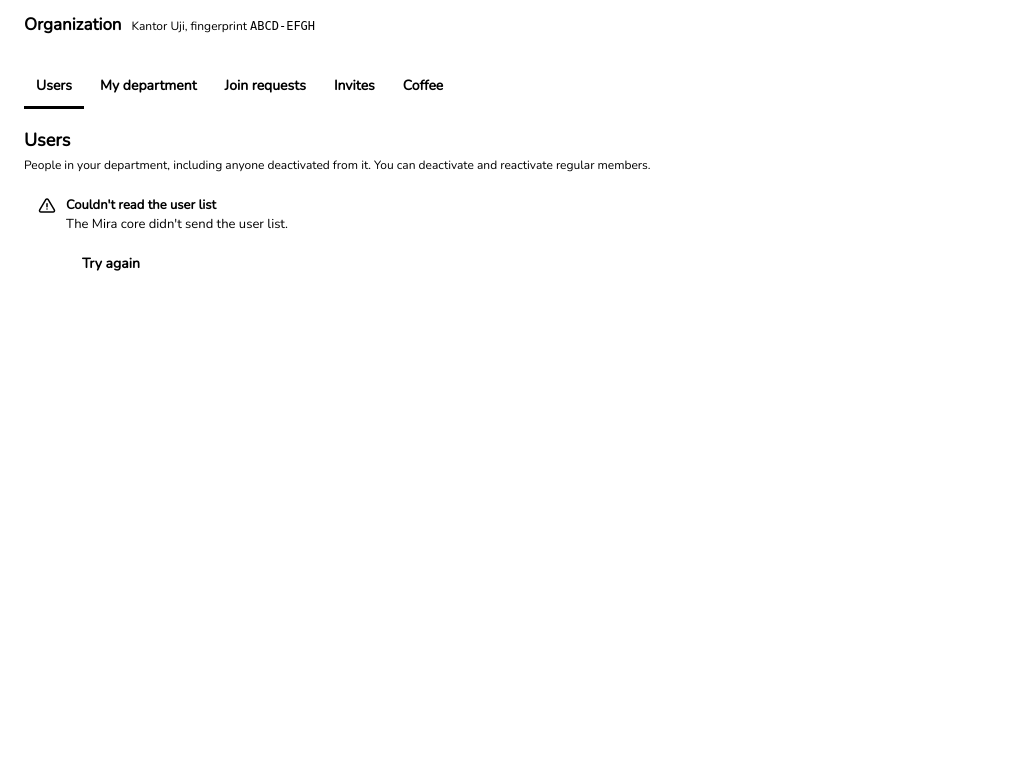
it: Departemen saya dalam bahasa Inggris › admin terakhir: penjelasan dalam bahasa Inggris dan tombolnya nonaktif
This screenshot has width=1024, height=765.
Click the button "My department": click(148, 86) [88, 64, 209, 108]
(page scrolled)
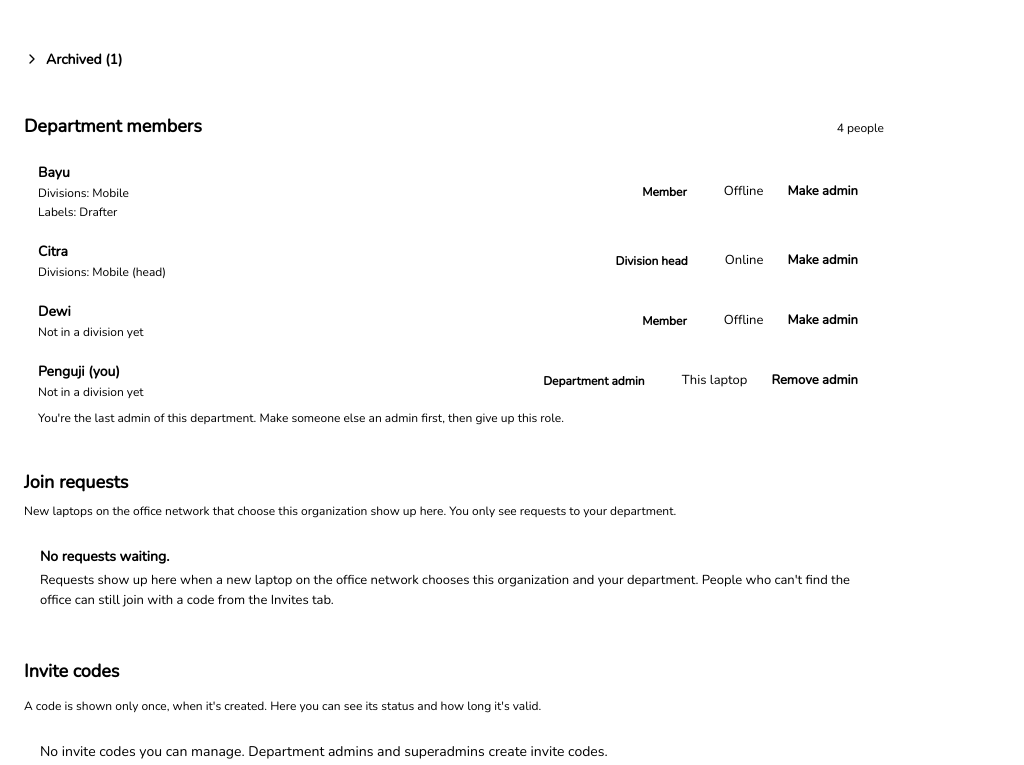
Now the heading "Department members" is shown, box [24, 113, 202, 140]
Now the button with aria-label "Remove admin, Penguji" is disabled, box [759, 364, 870, 398]
